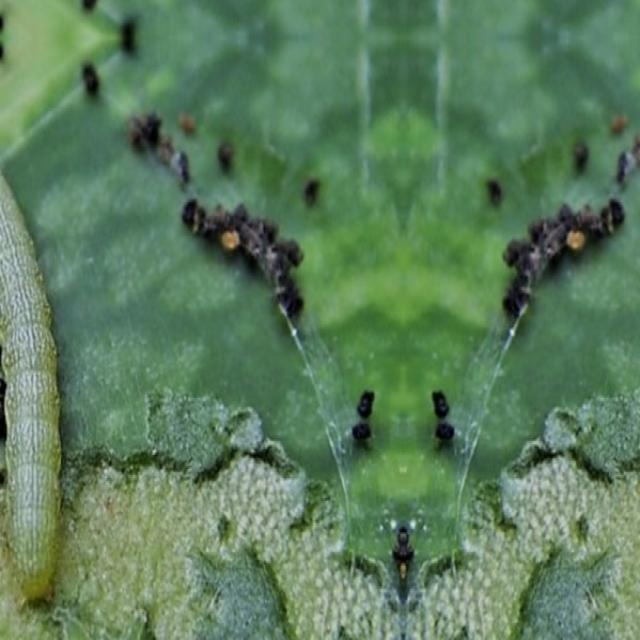armyworm: (0, 155, 68, 612)
